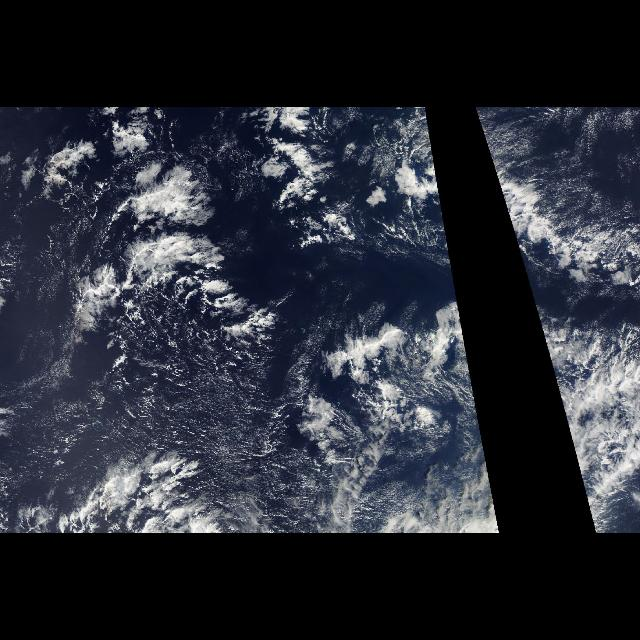Gravel: (10, 122, 452, 496), (29, 422, 237, 534), (496, 143, 634, 294)
Sugar: (12, 350, 318, 450)
